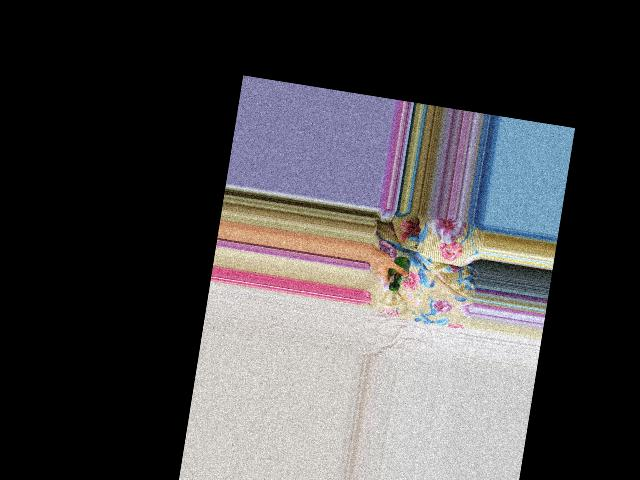beer: (384, 254, 410, 292)
